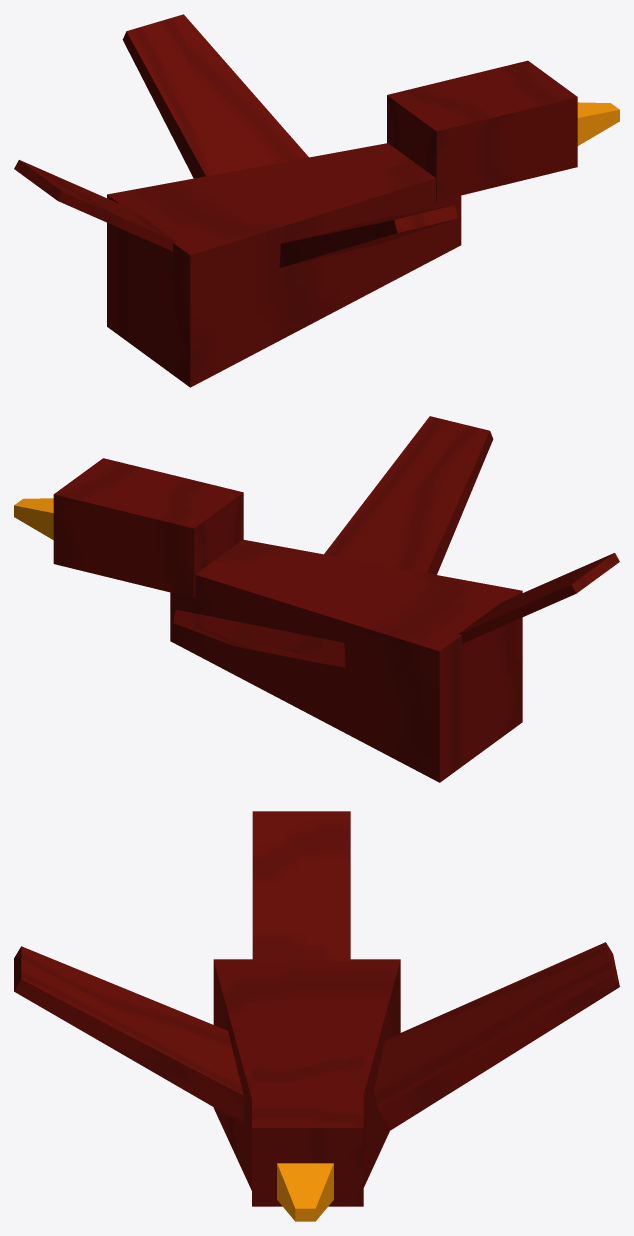
Rendered from CreatureRedBird.dae.
3 views of the same model, one above another, from view 1: azimuth 30°, elevation 25°; view 2: azimuth 150°, elevation 25°; view 3: azimuth 270°, elevation 25° (orthographic). The views are drawn at different scales.
Parts seen in each view (by area): view 1: Cube, Cube.001, Cube.004, Cube.003, Cube.005, Cube.002; view 2: Cube, Cube.001, Cube.003, Cube.004, Cube.005, Cube.002; view 3: Cube, Cube.004, Cube.003, Cube.001, Cube.005, Cube.002.
Part boxes in pixels (bbox=[...]): Cube: bbox=[107, 143, 461, 387]; Cube.001: bbox=[387, 60, 577, 201]; Cube.004: bbox=[122, 14, 308, 178]; Cube.003: bbox=[279, 205, 457, 267]; Cube.005: bbox=[14, 160, 176, 251]; Cube.002: bbox=[577, 102, 619, 145]; Cube: bbox=[170, 539, 522, 782]; Cube.001: bbox=[53, 458, 243, 597]; Cube.003: bbox=[324, 416, 493, 574]; Cube.004: bbox=[173, 609, 345, 667]; Cube.005: bbox=[458, 553, 619, 643]; Cube.002: bbox=[14, 498, 53, 539]; Cube: bbox=[213, 959, 400, 1190]; Cube.004: bbox=[373, 942, 619, 1130]; Cube.003: bbox=[14, 946, 243, 1124]; Cube.001: bbox=[252, 1050, 363, 1206]; Cube.005: bbox=[252, 811, 350, 961]; Cube.002: bbox=[277, 1163, 333, 1221].
Bounding box in the file's own units: 4 × 3.22 × 1.38.
1 material, 1 textured.
